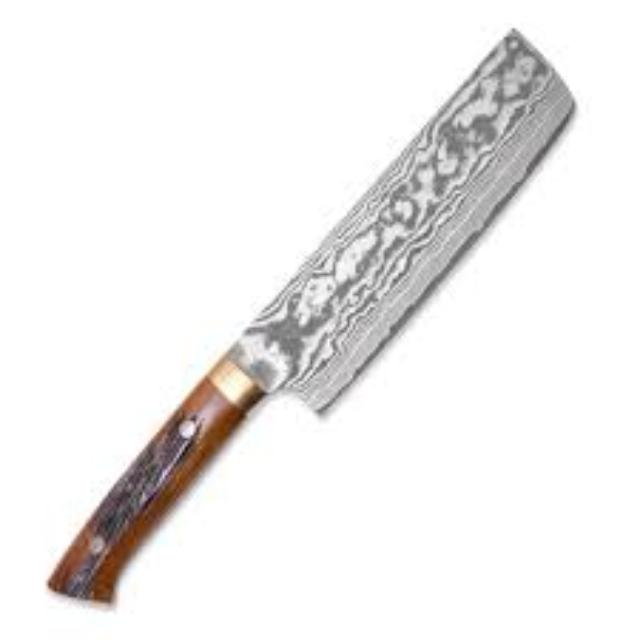Knife: (46, 25, 574, 602)
